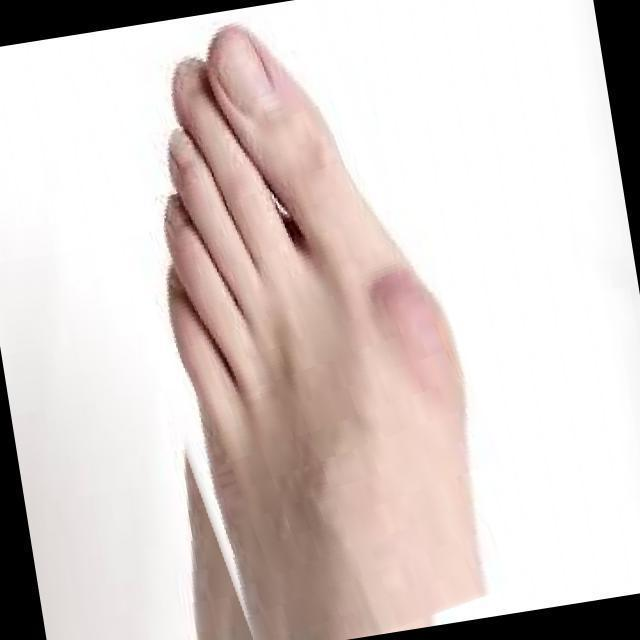No_Shoes: (119, 36, 497, 640)
